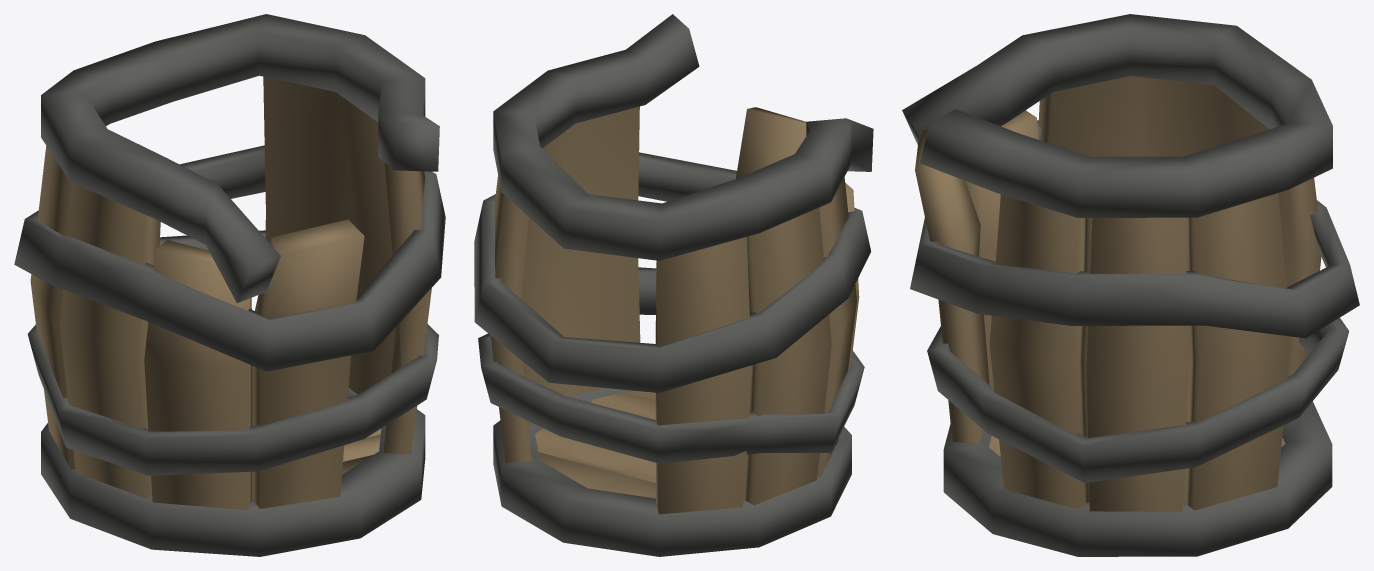
Rendered from rpgpp_av_barrel_02b.gltf.
3 renders of one model, left to right at view 1: azimuth 30°, elevation 25°; view 2: azimuth 150°, elevation 25°; view 3: azimuth 270°, elevation 25°, orthographic. The views are drawn at different scales.
Parts seen in each view (by area): view 1: rpgpp_av_barrel_02b; view 2: rpgpp_av_barrel_02b; view 3: rpgpp_av_barrel_02b.
Part boxes in pixels (box(x1,y1,x2,y2)): rpgpp_av_barrel_02b: box(14, 14, 445, 556); rpgpp_av_barrel_02b: box(474, 14, 873, 556); rpgpp_av_barrel_02b: box(902, 14, 1359, 556).
Bounding box in the file's own units: 0.00945 × 0.00996 × 0.0102.
1 material, 1 textured.
